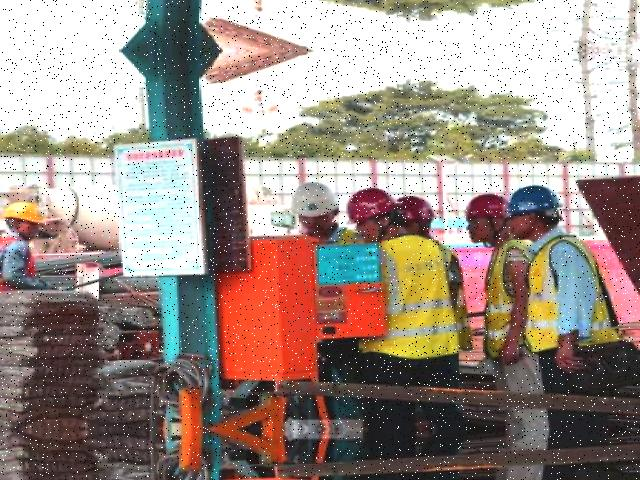Helmet: (510, 180, 568, 226), (286, 178, 345, 223), (346, 183, 400, 229), (1, 196, 51, 231), (465, 187, 518, 218), (399, 190, 439, 227)
